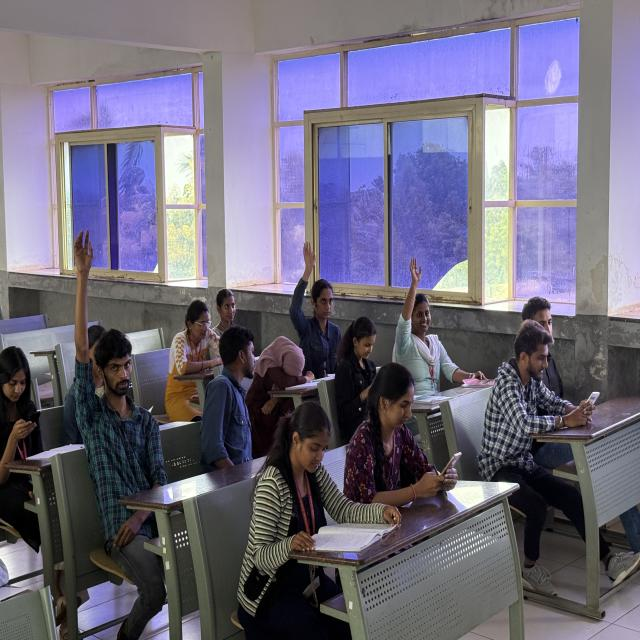Hand Rising: (68, 263, 178, 550), (395, 256, 477, 400)
Reading: (263, 396, 375, 638), (238, 389, 366, 564)
Using Phone: (353, 353, 466, 523), (475, 322, 592, 483)
